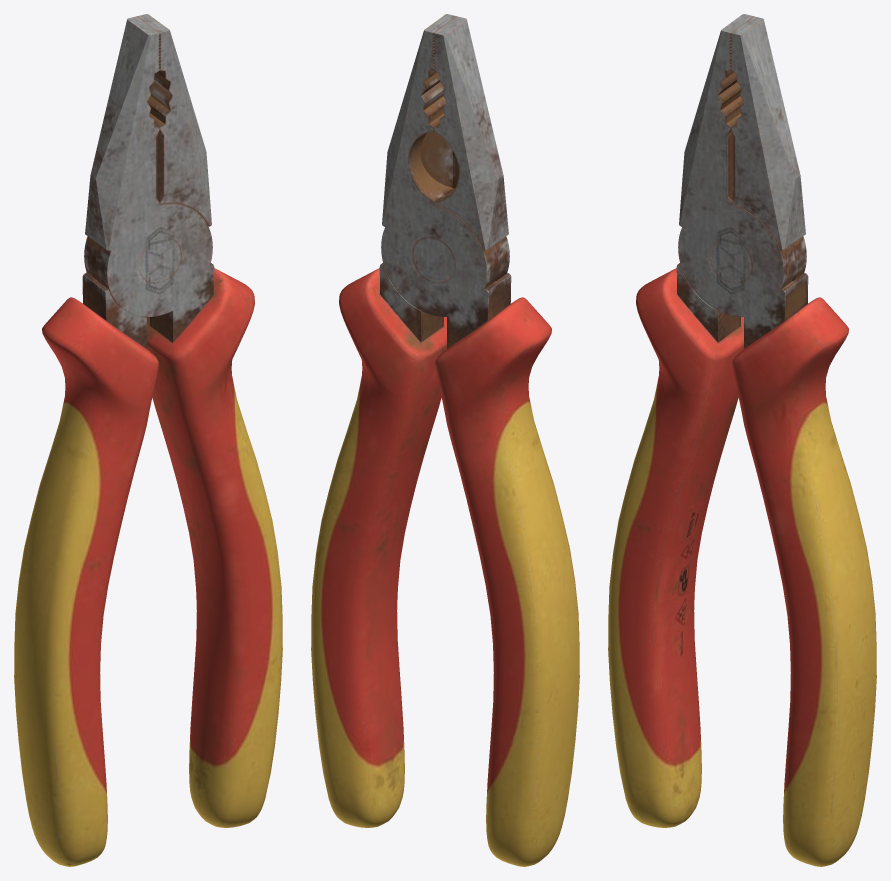
The model's file is pliers.glb.
3 renders of one model, left to right at view 1: azimuth 30°, elevation 25°; view 2: azimuth 150°, elevation 25°; view 3: azimuth 330°, elevation 25°, orthographic.
Visible parts, largest first — view 1: pliers_b, pliers_a, pliers_pin; view 2: pliers_a, pliers_b, pliers_pin; view 3: pliers_b, pliers_a, pliers_pin.
Boxes of the visible parts, <box> form: pliers_b: <box>85,16,282,827</box>; pliers_a: <box>14,14,211,866</box>; pliers_pin: <box>138,237,181,282</box>; pliers_a: <box>381,14,579,866</box>; pliers_b: <box>311,16,509,827</box>; pliers_pin: <box>412,237,455,282</box>; pliers_b: <box>678,14,876,866</box>; pliers_a: <box>608,16,806,827</box>; pliers_pin: <box>709,237,752,282</box>.
Size of the model in its own units: 0.0553 by 0.1798 by 0.018.
1 material, 1 textured.
